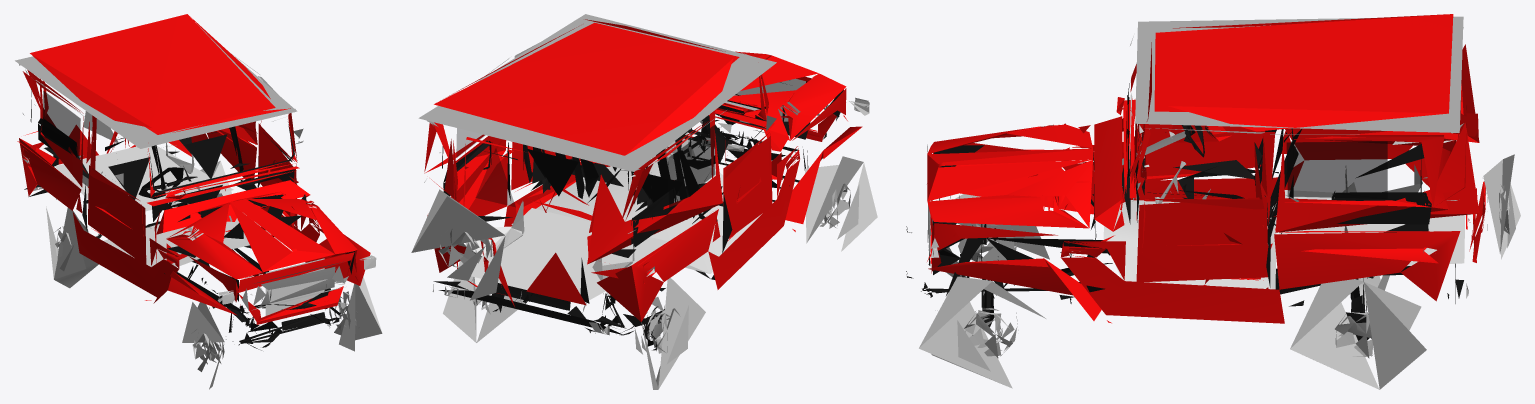
Rendered from landcruiser_lod1.glb.
3 renders of one model, left to right at view 1: azimuth 30°, elevation 25°; view 2: azimuth 150°, elevation 25°; view 3: azimuth 270°, elevation 25°, orthographic. The views are drawn at different scales.
Parts seen in each view (by area): view 1: Mesh_0124.rip_mat0.028_0.001; view 2: Mesh_0124.rip_mat0.028_0.001; view 3: Mesh_0124.rip_mat0.028_0.001.
Boxes of the visible parts, x1=… form: Mesh_0124.rip_mat0.028_0.001: x1=15, y1=14, x2=382, y2=389; Mesh_0124.rip_mat0.028_0.001: x1=411, y1=14, x2=877, y2=389; Mesh_0124.rip_mat0.028_0.001: x1=906, y1=14, x2=1520, y2=389.
Size of the model in its own units: 1.79 by 1.96 by 3.74.
